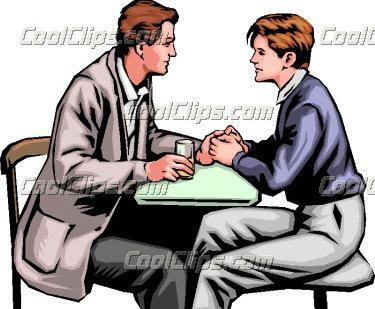person: (16, 1, 226, 307), (187, 14, 362, 305)
